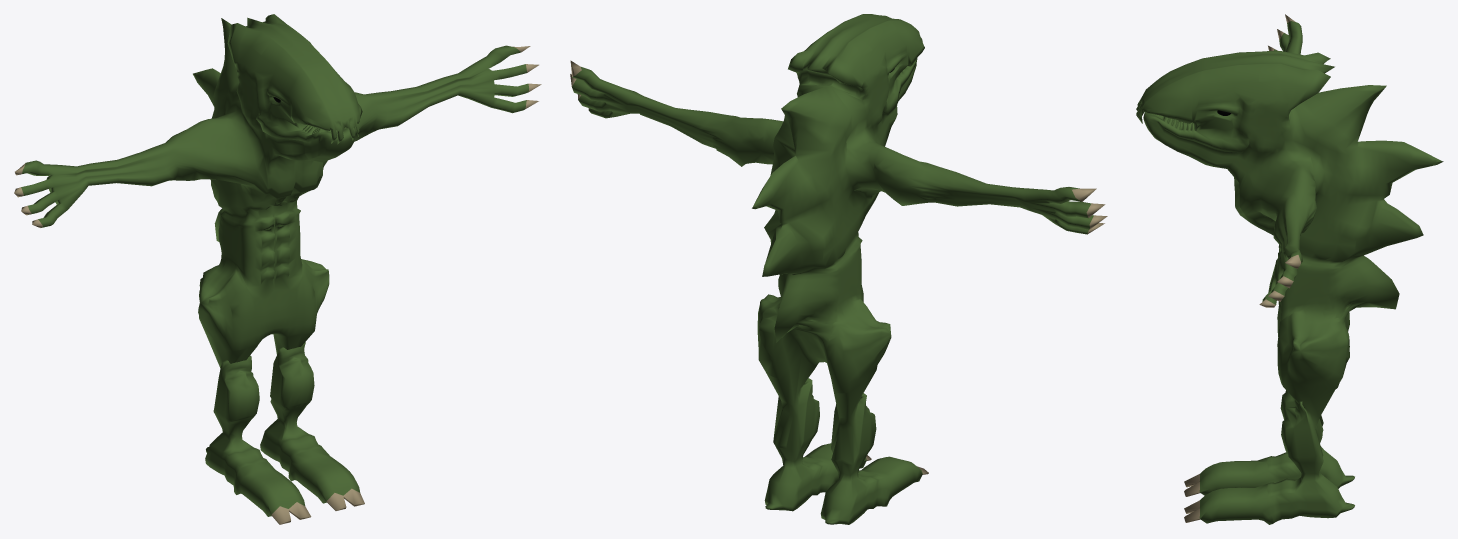
The model's file is GoblinNoRig.fbx.
3 renders of one model, left to right at view 1: azimuth 30°, elevation 25°; view 2: azimuth 150°, elevation 25°; view 3: azimuth 270°, elevation 25°, orthographic. The views are drawn at different scales.
Parts seen in each view (by area): view 1: Cube; view 2: Cube; view 3: Cube.
Boxes of the visible parts, bbox=[...] form: Cube: bbox=[14, 14, 541, 524]; Cube: bbox=[570, 14, 1107, 524]; Cube: bbox=[1136, 14, 1443, 524].
Size of the model in its own units: 730 by 602 by 375.
